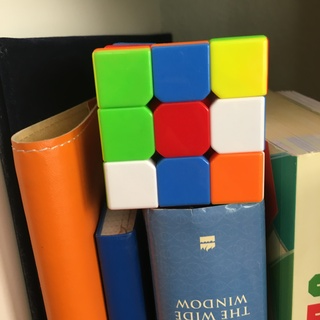face: (92, 38, 263, 208)
